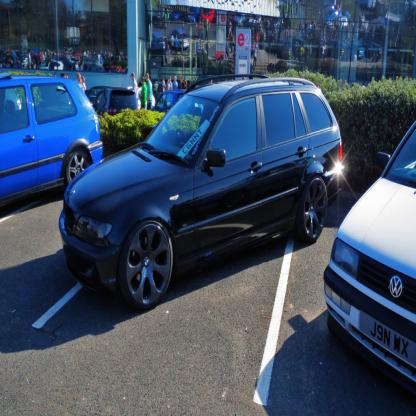Car: (56, 74, 347, 313), (329, 109, 416, 368), (1, 68, 104, 192), (93, 85, 142, 119), (151, 87, 195, 112)
